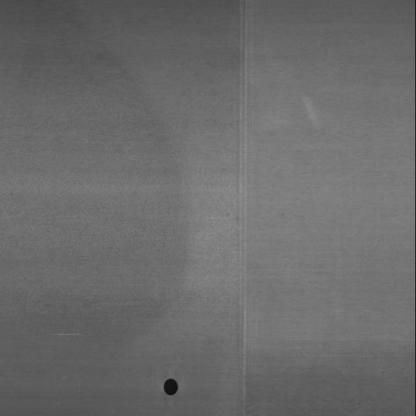punching_hole: (157, 376, 181, 398)
welding_line: (230, 0, 260, 414)
